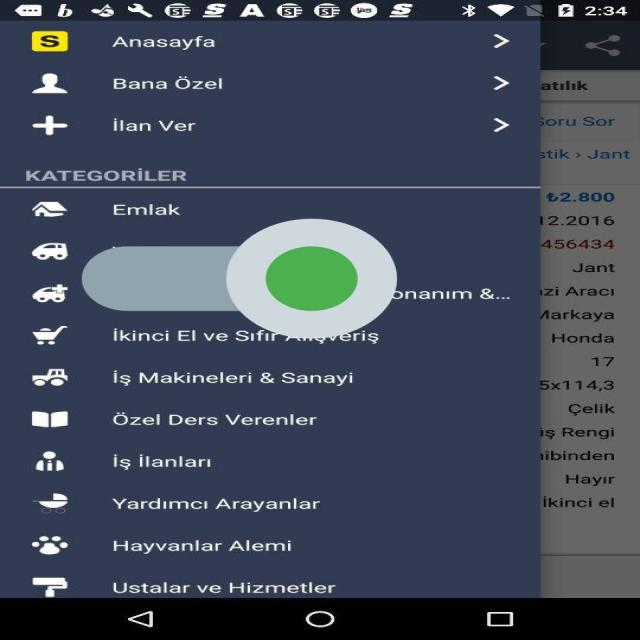social proof: (82, 168, 397, 389)
